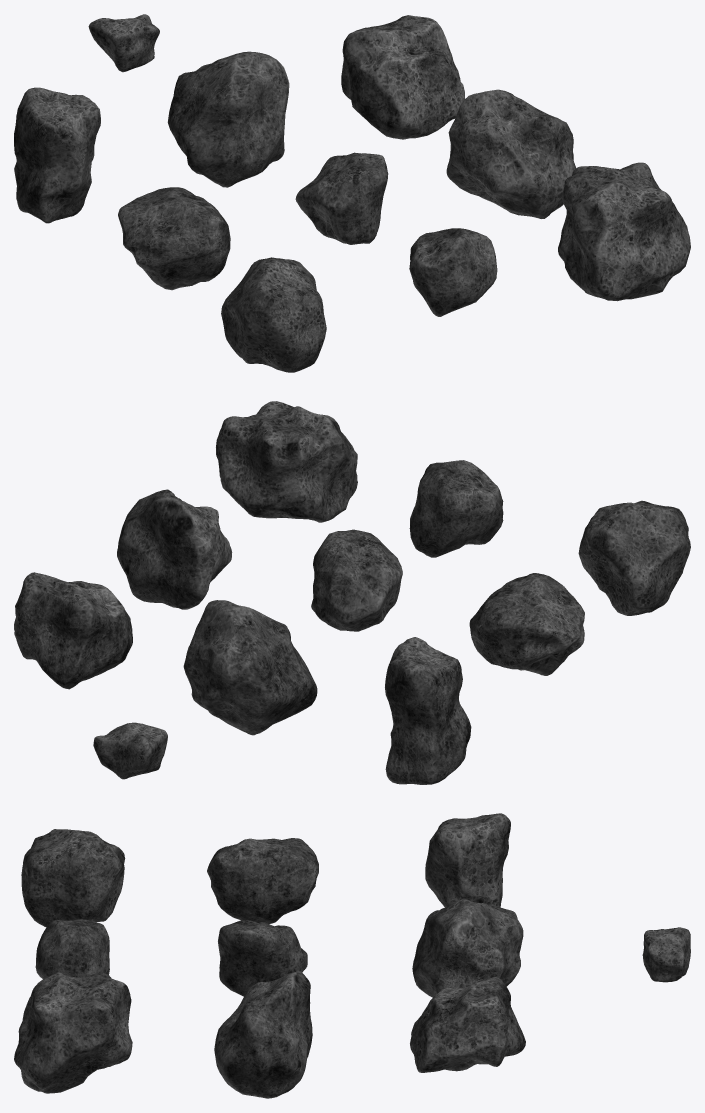
Rendered from asteroids.glb.
3 views of the same model, one above another, from view 1: azimuth 30°, elevation 25°; view 2: azimuth 150°, elevation 25°; view 3: azimuth 270°, elevation 25° (orthographic). The views are drawn at different scales.
Visible parts, largest first — view 1: Asteroid_no_1_Material #3_0, Asteroid_no_8_Material #3_0, Asteroid_no_4_Material #3_0, Asteroid_no_7_Material #3_0, Asteroid_no_9_Material #3_0, Asteroid_no_3_Material #3_0, Asteroid_no_6_Material #3_0, Asteroid_no_5_Material #3_0, Asteroid_no_2_Material #3_0, Asteroid_no_10_Material #3_0; view 2: Asteroid_no_1_Material #3_0, Asteroid_no_8_Material #3_0, Asteroid_no_7_Material #3_0, Asteroid_no_9_Material #3_0, Asteroid_no_4_Material #3_0, Asteroid_no_3_Material #3_0, Asteroid_no_6_Material #3_0, Asteroid_no_5_Material #3_0, Asteroid_no_2_Material #3_0, Asteroid_no_10_Material #3_0; view 3: Asteroid_no_1_Material #3_0, Asteroid_no_4_Material #3_0, Asteroid_no_3_Material #3_0, Asteroid_no_8_Material #3_0, Asteroid_no_7_Material #3_0, Asteroid_no_6_Material #3_0, Asteroid_no_9_Material #3_0, Asteroid_no_5_Material #3_0, Asteroid_no_2_Material #3_0, Asteroid_no_10_Material #3_0.
Boxes of the visible parts, x1,y1,x2,y2 form: Asteroid_no_1_Material #3_0: [558, 162, 690, 301]; Asteroid_no_8_Material #3_0: [167, 51, 289, 187]; Asteroid_no_4_Material #3_0: [446, 89, 576, 218]; Asteroid_no_7_Material #3_0: [341, 15, 464, 139]; Asteroid_no_9_Material #3_0: [14, 87, 100, 223]; Asteroid_no_3_Material #3_0: [221, 257, 326, 372]; Asteroid_no_6_Material #3_0: [118, 187, 230, 290]; Asteroid_no_5_Material #3_0: [295, 152, 388, 244]; Asteroid_no_2_Material #3_0: [409, 228, 497, 316]; Asteroid_no_10_Material #3_0: [88, 14, 159, 72]; Asteroid_no_1_Material #3_0: [216, 401, 357, 522]; Asteroid_no_8_Material #3_0: [183, 600, 317, 735]; Asteroid_no_7_Material #3_0: [14, 572, 132, 689]; Asteroid_no_9_Material #3_0: [385, 637, 471, 784]; Asteroid_no_4_Material #3_0: [117, 489, 232, 609]; Asteroid_no_3_Material #3_0: [578, 500, 690, 615]; Asteroid_no_6_Material #3_0: [469, 573, 584, 675]; Asteroid_no_5_Material #3_0: [311, 529, 402, 631]; Asteroid_no_2_Material #3_0: [409, 460, 503, 557]; Asteroid_no_10_Material #3_0: [93, 722, 167, 779]; Asteroid_no_1_Material #3_0: [14, 972, 132, 1093]; Asteroid_no_4_Material #3_0: [214, 971, 312, 1098]; Asteroid_no_3_Material #3_0: [21, 829, 125, 927]; Asteroid_no_8_Material #3_0: [412, 899, 523, 997]; Asteroid_no_7_Material #3_0: [410, 977, 525, 1072]; Asteroid_no_6_Material #3_0: [207, 838, 318, 923]; Asteroid_no_9_Material #3_0: [425, 813, 510, 907]; Asteroid_no_5_Material #3_0: [218, 920, 307, 996]; Asteroid_no_2_Material #3_0: [35, 919, 109, 978]; Asteroid_no_10_Material #3_0: [642, 927, 690, 982].
Size of the model in its own units: 34.3 by 9.09 by 48.14.
1 material, 1 textured.
